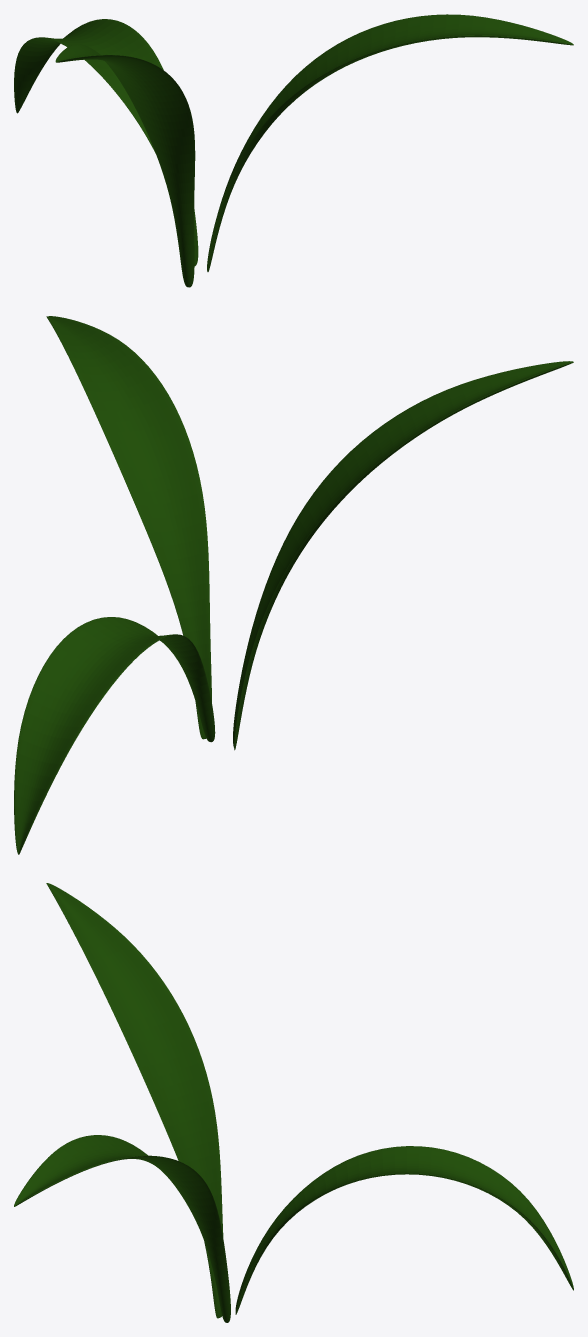
The model's file is plantesimple1.obj.
The picture shows the model from 3 angles, top to bottom: view 1: azimuth 30°, elevation 25°; view 2: azimuth 150°, elevation 25°; view 3: azimuth 270°, elevation 25°; orthographic projection. The views are drawn at different scales.
Visible parts, largest first — view 1: Plan.002, Plan.001, Plan; view 2: Plan.001, Plan, Plan.002; view 3: Plan.002, Plan, Plan.001.
Boxes of the visible parts, x1=… form: Plan.002: x1=55, y1=44, x2=195, y2=287; Plan.001: x1=207, y1=14, x2=573, y2=271; Plan: x1=14, y1=19, x2=198, y2=265; Plan.001: x1=46, y1=316, x2=211, y2=739; Plan: x1=14, y1=617, x2=215, y2=854; Plan.002: x1=233, y1=361, x2=573, y2=750; Plan.002: x1=46, y1=883, x2=223, y2=1318; Plan: x1=235, y1=1146, x2=573, y2=1314; Plan.001: x1=14, y1=1135, x2=230, y2=1322.
Bounding box in the file's own units: 0.3704 × 0.2436 × 0.373.
